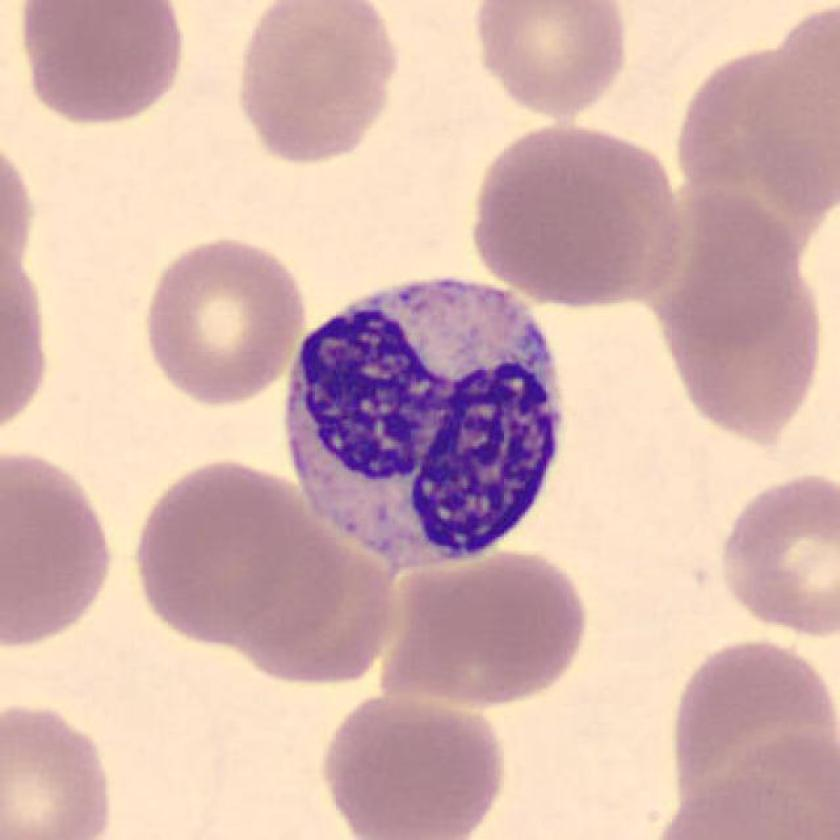neutrophil: (283, 275, 560, 563)
